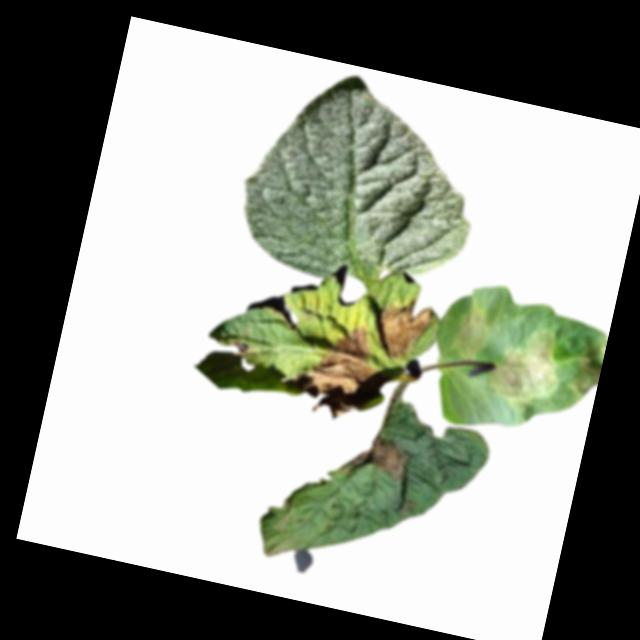Late_blight: (284, 312, 383, 423), (483, 320, 571, 413), (369, 291, 436, 367), (339, 429, 416, 486), (447, 301, 498, 366), (564, 340, 605, 401), (229, 339, 254, 360)
